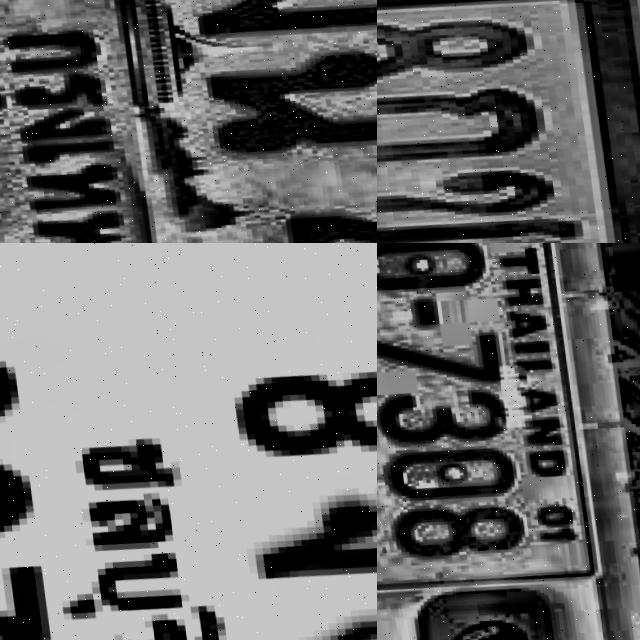license-plate: (0, 243, 377, 640), (0, 0, 377, 243), (377, 243, 603, 611), (377, 0, 640, 243)
